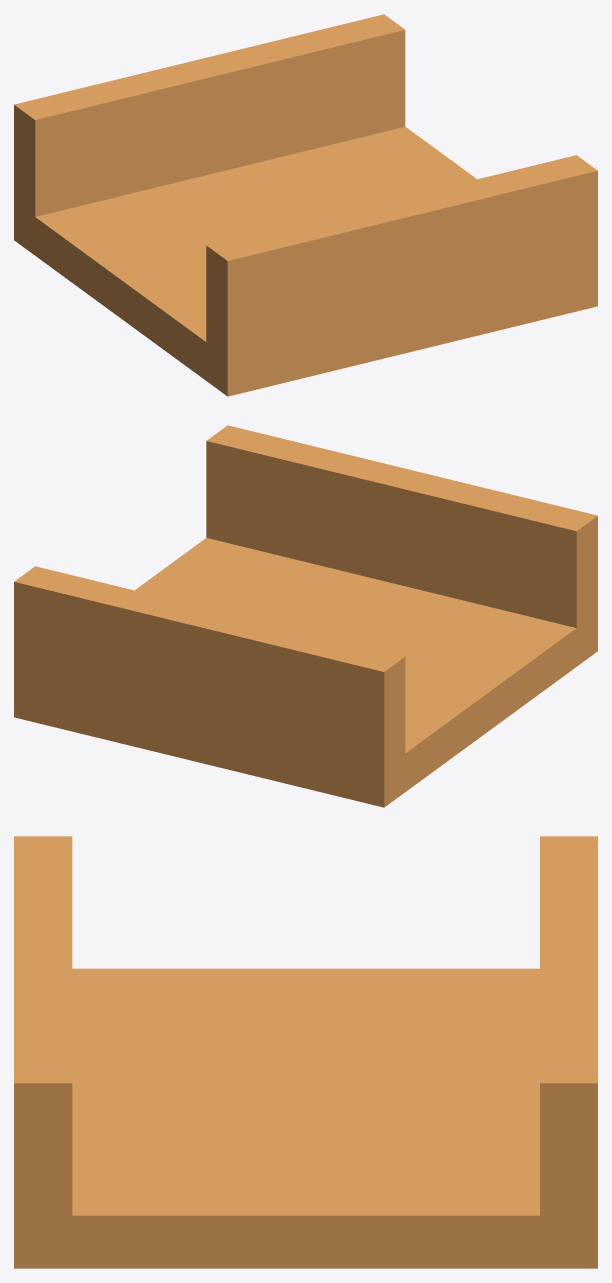
The model's file is YellowRoof_2Edges_small.glb.
The picture shows the model from 3 angles, top to bottom: view 1: azimuth 30°, elevation 25°; view 2: azimuth 150°, elevation 25°; view 3: azimuth 270°, elevation 25°; orthographic projection. The views are drawn at different scales.
Visible parts, largest first — view 1: roof_flat_2Edges_small_yellow; view 2: roof_flat_2Edges_small_yellow; view 3: roof_flat_2Edges_small_yellow.
Part boxes in pixels (left/top/right/bottom): roof_flat_2Edges_small_yellow: left=14, top=14, right=597, bottom=396; roof_flat_2Edges_small_yellow: left=14, top=425, right=597, bottom=807; roof_flat_2Edges_small_yellow: left=14, top=836, right=597, bottom=1268.
Size of what is drawn, in the model's own units: 2 by 0.7 by 2.
Materials: 1 (1 with a texture image).
